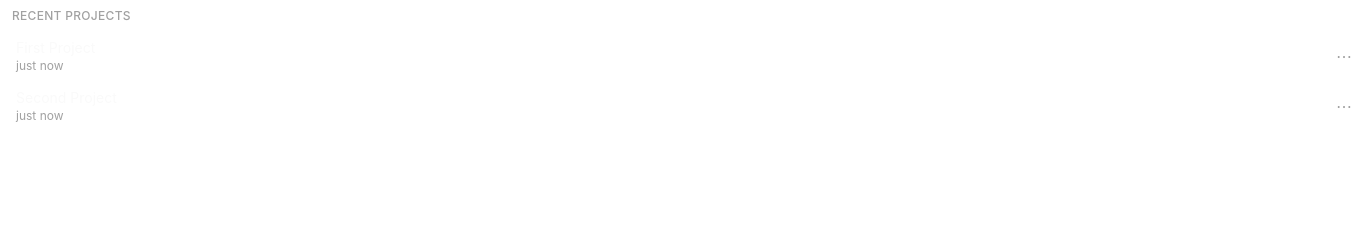
Test: the row menu › offers rename, duplicate, reveal and delete
Click the 1st button with test id "project-menu". click: (1344, 56)
box: [1330,40,1358,72]
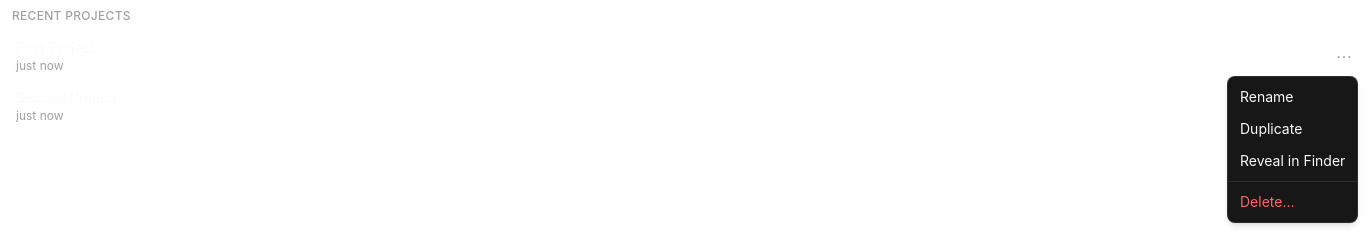
Result: the menu item with test id "project-rename" is shown at [1240,88,1294,105]
Result: the menu item with test id "project-duplicate" is shown at [1240,120,1302,137]
Result: the menu item with test id "project-reveal" is shown at [1240,152,1345,169]
